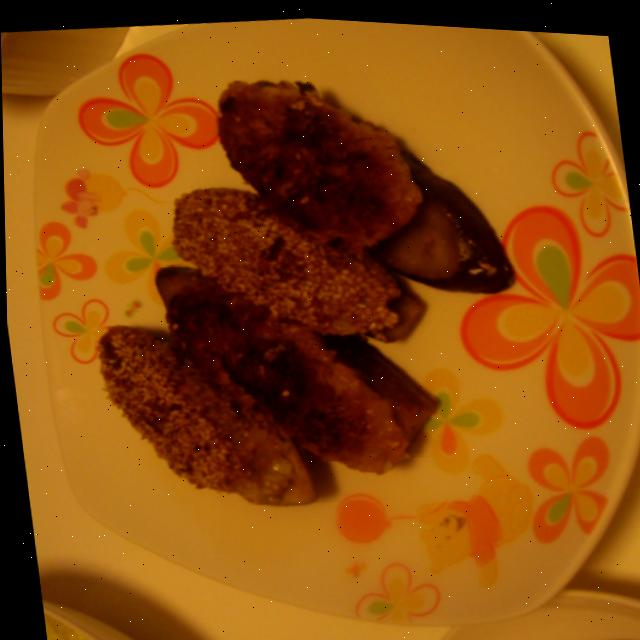鸡蛋料理: (26, 14, 558, 591)
